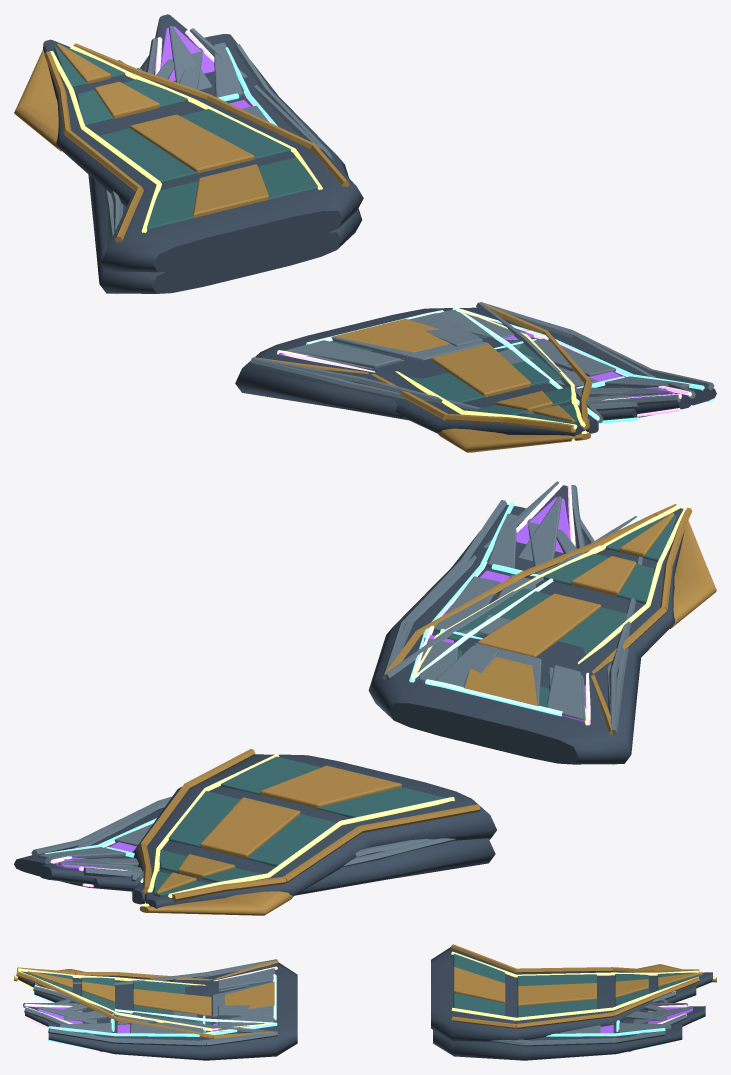
Rendered from wings.glb.
The picture shows the model from 3 angles, top to bottom: view 1: azimuth 30°, elevation 25°; view 2: azimuth 150°, elevation 25°; view 3: azimuth 270°, elevation 25°; orthographic projection. The views are drawn at different scales.
Parts seen in each view (by area): view 1: w_phantom Champagne gold edging, w_phantom Fitting gunmetal, w_phantom Phantom blue-black enamel, w_razor Fitting gunmetal, w_vane Brushed fitting edges, w_vane Fitting gunmetal, w_prism Brushed fitting edges, w_razor Brushed fitting edges, w_phantom w_phantom emitter, w_prism w_prism emitter, w_vane w_vane emitter, w_prism Violet prismatic glass (+2 smaller); view 2: w_phantom Champagne gold edging, w_phantom Fitting gunmetal, w_razor Fitting gunmetal, w_phantom Phantom blue-black enamel, w_vane Fitting gunmetal, w_vane Brushed fitting edges, w_prism Brushed fitting edges, w_razor Brushed fitting edges, w_phantom w_phantom emitter, w_vane w_vane emitter, w_prism Violet prismatic glass, w_razor w_razor emitter (+2 smaller); view 3: w_phantom Champagne gold edging, w_phantom Fitting gunmetal, w_vane Fitting gunmetal, w_phantom Phantom blue-black enamel, w_vane Brushed fitting edges, w_razor Fitting gunmetal, w_razor Brushed fitting edges, w_phantom w_phantom emitter, w_prism Brushed fitting edges, w_vane w_vane emitter, w_prism Violet prismatic glass, w_razor w_razor emitter (+2 smaller).
Boxes of the visible parts, x1,y1,x2,y2 form: w_phantom Champagne gold edging: (14, 43, 592, 452); w_phantom Fitting gunmetal: (43, 39, 593, 436); w_phantom Phantom blue-black enamel: (54, 45, 577, 423); w_razor Fitting gunmetal: (91, 49, 598, 433); w_vane Brushed fitting edges: (103, 42, 714, 410); w_vane Fitting gunmetal: (88, 34, 716, 420); w_prism Brushed fitting edges: (121, 25, 695, 405); w_razor Brushed fitting edges: (111, 60, 603, 424); w_phantom w_phantom emitter: (50, 45, 586, 441); w_prism w_prism emitter: (117, 30, 692, 416); w_vane w_vane emitter: (116, 47, 712, 423); w_prism Violet prismatic glass: (160, 26, 675, 398); w_phantom Champagne gold edging: (139, 504, 716, 915); w_phantom Fitting gunmetal: (133, 508, 684, 908); w_razor Fitting gunmetal: (132, 634, 631, 904); w_phantom Phantom blue-black enamel: (153, 514, 676, 896); w_vane Fitting gunmetal: (14, 504, 640, 895); w_vane Brushed fitting edges: (31, 500, 629, 881); w_prism Brushed fitting edges: (45, 481, 611, 876); w_razor Brushed fitting edges: (135, 516, 642, 884); w_phantom w_phantom emitter: (143, 505, 689, 906); w_vane w_vane emitter: (44, 502, 614, 894); w_prism Violet prismatic glass: (55, 497, 590, 868); w_razor w_razor emitter: (140, 516, 640, 882); w_phantom Champagne gold edging: (14, 944, 716, 1038); w_phantom Fitting gunmetal: (18, 947, 712, 1041); w_vane Fitting gunmetal: (48, 1002, 682, 1060); w_phantom Phantom blue-black enamel: (27, 954, 703, 1024); w_vane Brushed fitting edges: (48, 968, 670, 1046); w_razor Fitting gunmetal: (34, 962, 696, 1055); w_razor Brushed fitting edges: (33, 959, 676, 1032); w_phantom w_phantom emitter: (14, 951, 716, 1031); w_prism Brushed fitting edges: (23, 963, 692, 1041); w_vane w_vane emitter: (48, 1014, 665, 1048); w_prism Violet prismatic glass: (38, 969, 692, 1033); w_razor w_razor emitter: (33, 974, 675, 1023).
Bounding box in the file's own units: 23.16 × 6.12 × 70.11.
